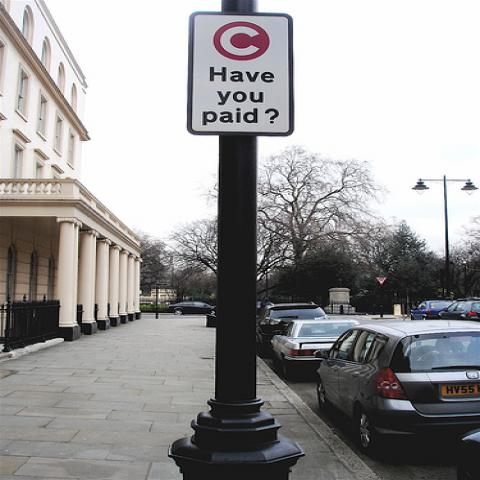car: (312, 318, 479, 461), (270, 316, 358, 380), (256, 303, 327, 351), (437, 298, 479, 323), (410, 300, 458, 321), (168, 301, 216, 316)
